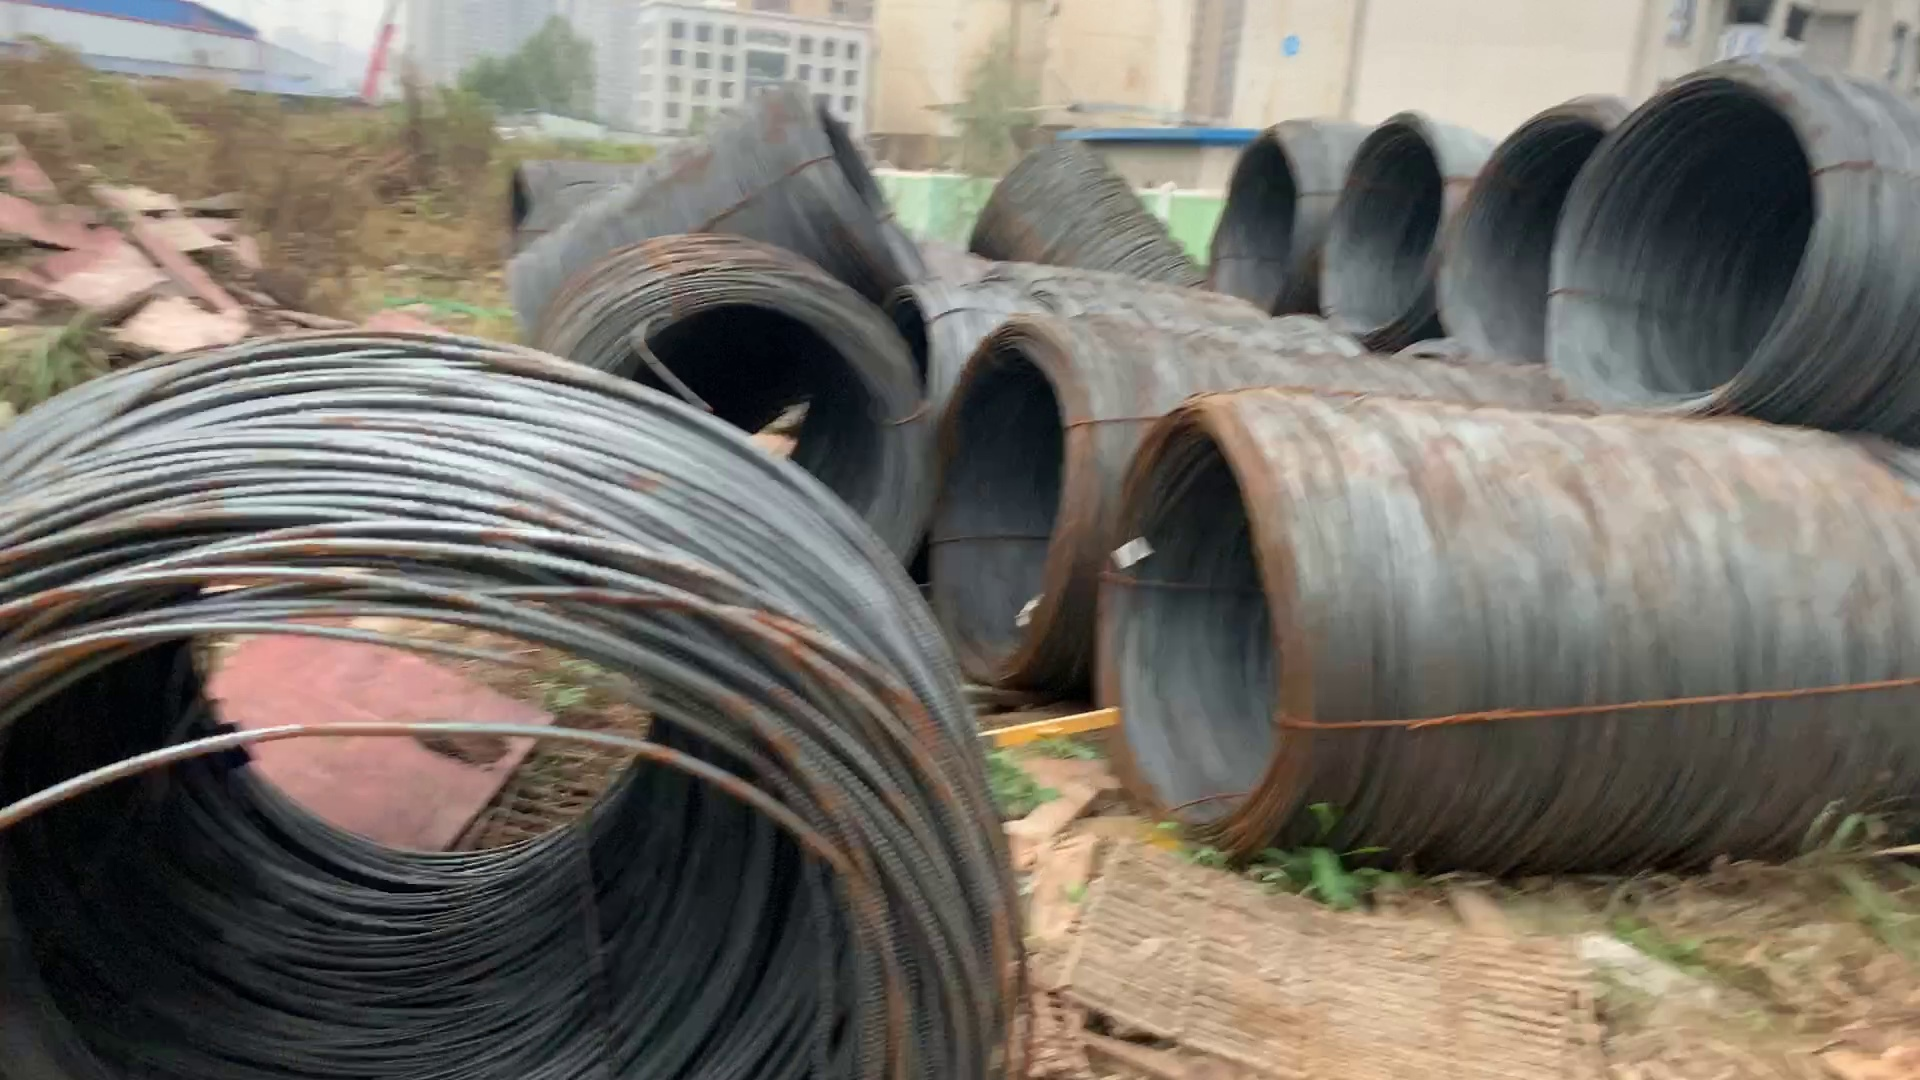coil: (1, 498, 1068, 1073), (535, 277, 940, 593), (1543, 69, 1826, 435), (1096, 402, 1324, 852), (953, 332, 1088, 682), (1429, 102, 1590, 385), (789, 84, 935, 302), (1332, 113, 1452, 357), (1193, 124, 1315, 343)
